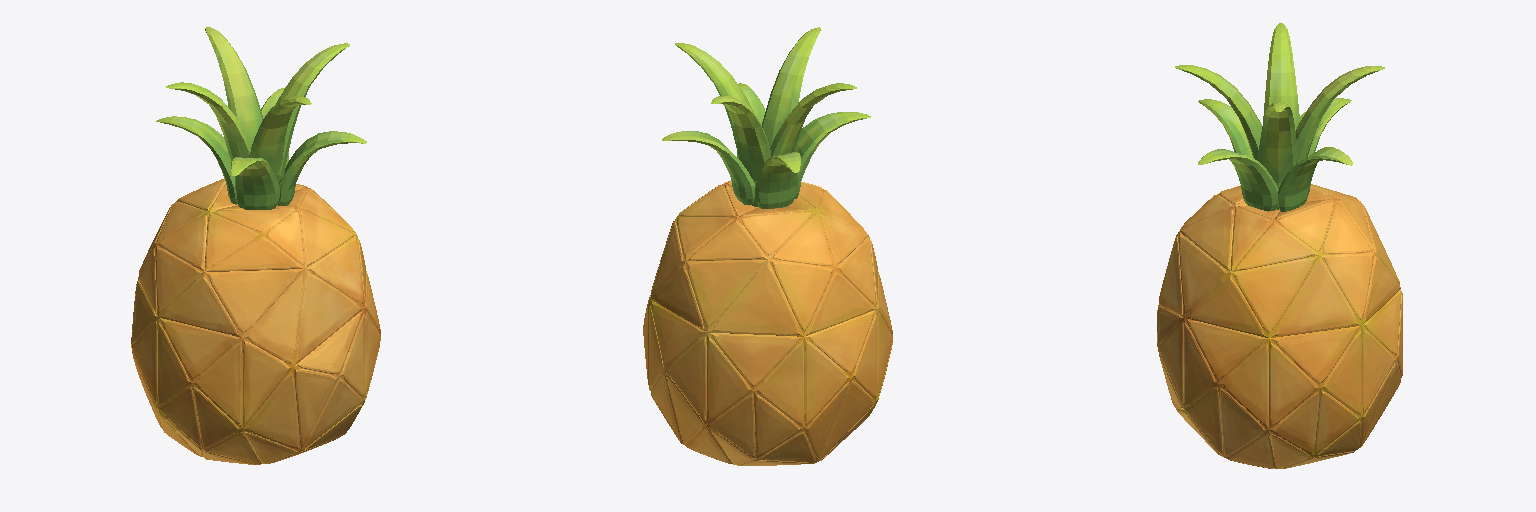
3 renders of one model, left to right at view 1: azimuth 30°, elevation 25°; view 2: azimuth 150°, elevation 25°; view 3: azimuth 270°, elevation 25°, orthographic.
Parts seen in each view (by area): view 1: PineappleBody, PineappleLeaves; view 2: PineappleBody, PineappleLeaves; view 3: PineappleBody, PineappleLeaves.
Part boxes in pixels (bbox=[...]): PineappleBody: bbox=[131, 178, 380, 464]; PineappleLeaves: bbox=[156, 27, 366, 209]; PineappleBody: bbox=[643, 181, 892, 465]; PineappleLeaves: bbox=[662, 27, 870, 208]; PineappleBody: bbox=[1157, 184, 1402, 468]; PineappleLeaves: bbox=[1175, 23, 1384, 211].
Bounding box in the file's own units: 4.41 × 7.58 × 4.45.
Materials: 2 (2 with a texture image).